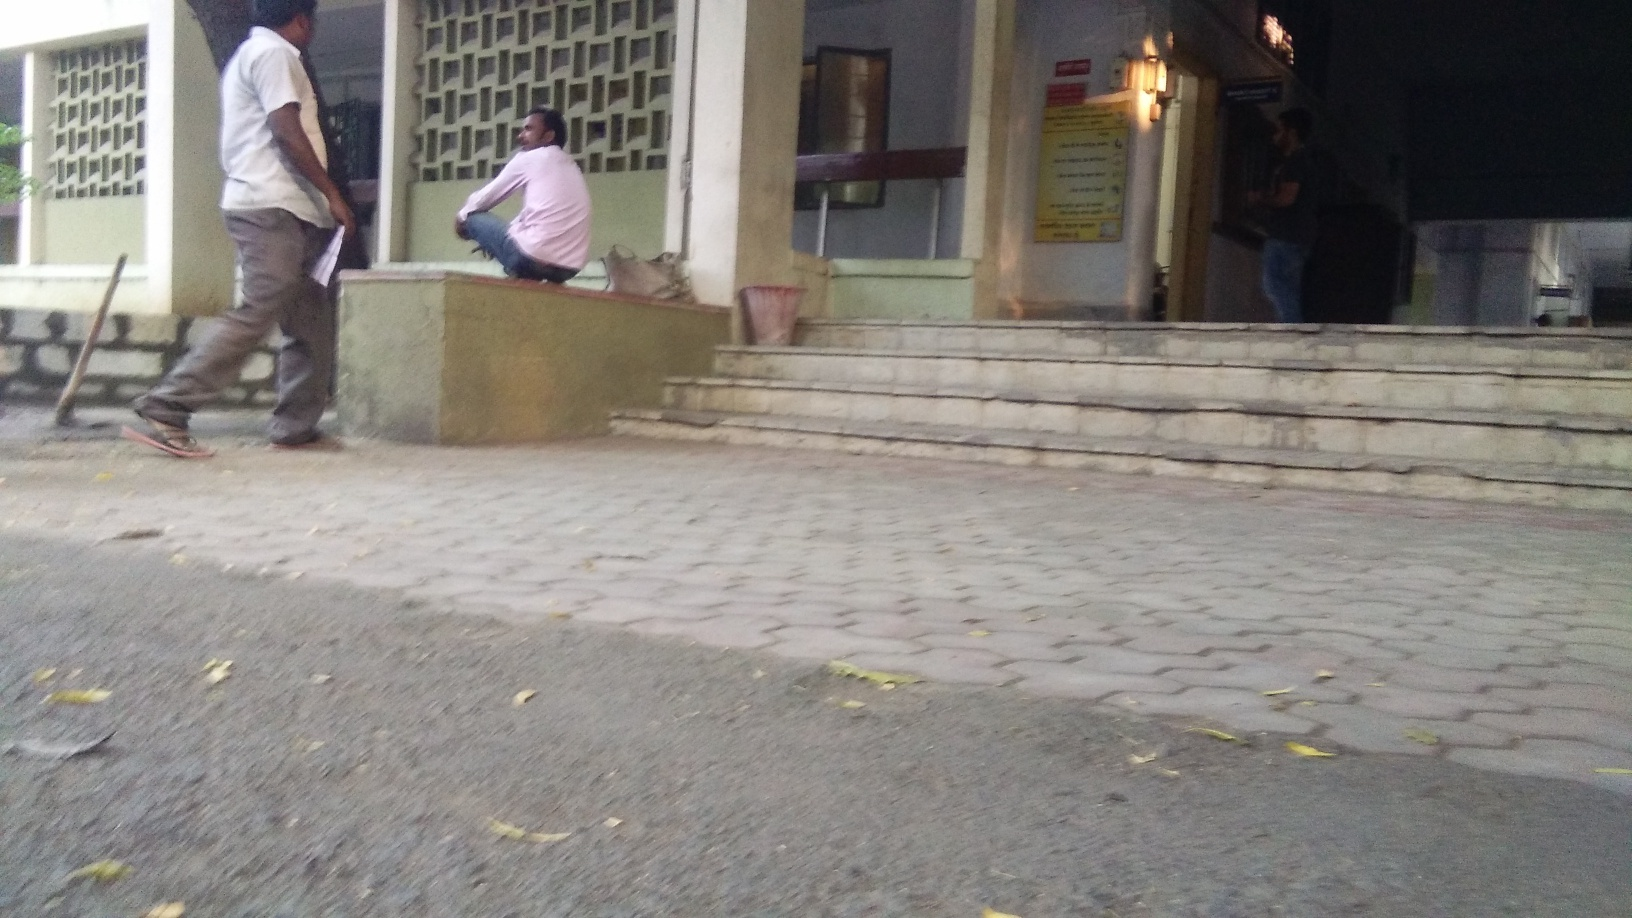stairs_up: (591, 303, 1628, 466)
